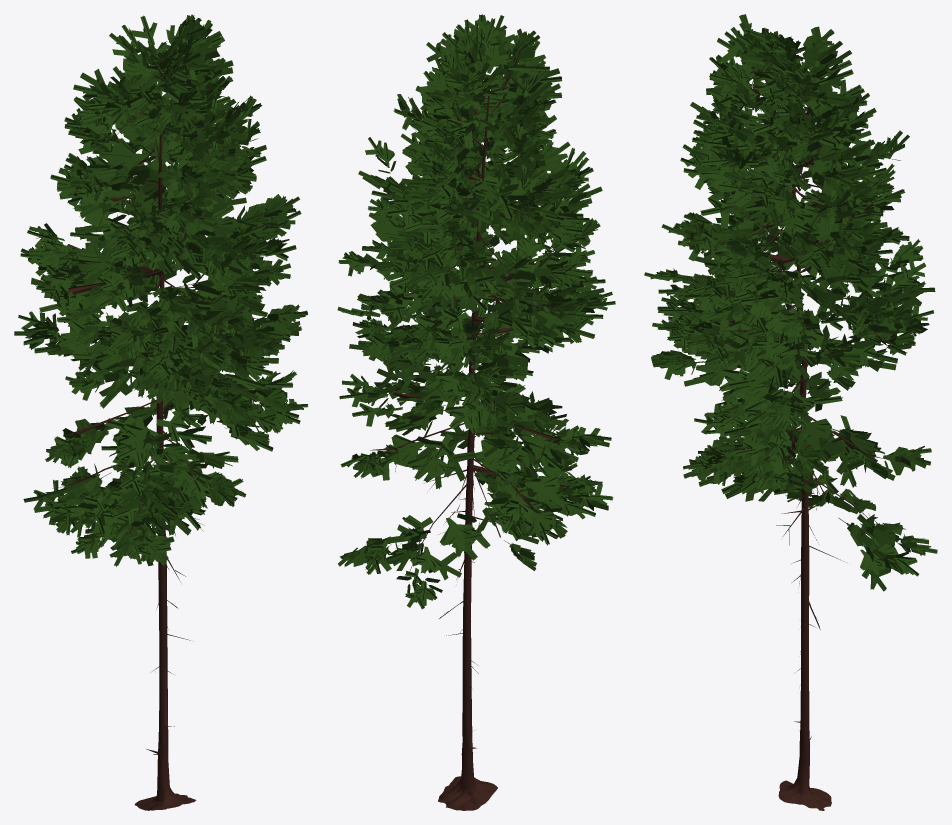
The model's file is fir_a_lod1.obj.
3 views of the same model, side by side, from view 1: azimuth 30°, elevation 25°; view 2: azimuth 150°, elevation 25°; view 3: azimuth 270°, elevation 25° (orthographic). The views are drawn at different scales.
Parts seen in each view (by area): view 1: fir_a_lod1; view 2: fir_a_lod1; view 3: fir_a_lod1.
Part boxes in pixels (<box>): fir_a_lod1: <box>14,14,308,810</box>; fir_a_lod1: <box>337,14,615,810</box>; fir_a_lod1: <box>644,14,937,810</box>.
Size of the model in its own units: 259 by 746 by 255.
